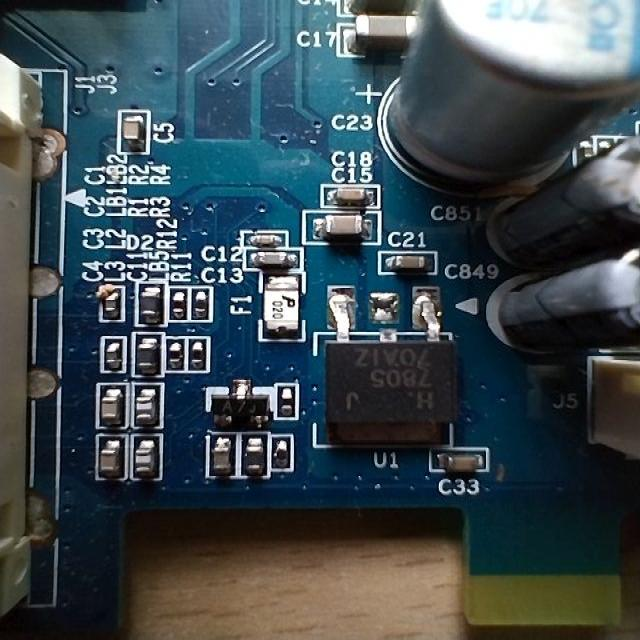capacitor: (335, 11, 417, 59), (302, 208, 383, 242), (434, 447, 489, 476), (205, 434, 238, 477), (94, 436, 126, 480), (94, 385, 126, 428), (118, 111, 147, 154), (380, 256, 438, 276), (322, 183, 374, 203)
resistor: (272, 432, 294, 471), (192, 286, 213, 322), (165, 340, 184, 377), (190, 338, 208, 372), (279, 384, 296, 417), (171, 287, 185, 319)
